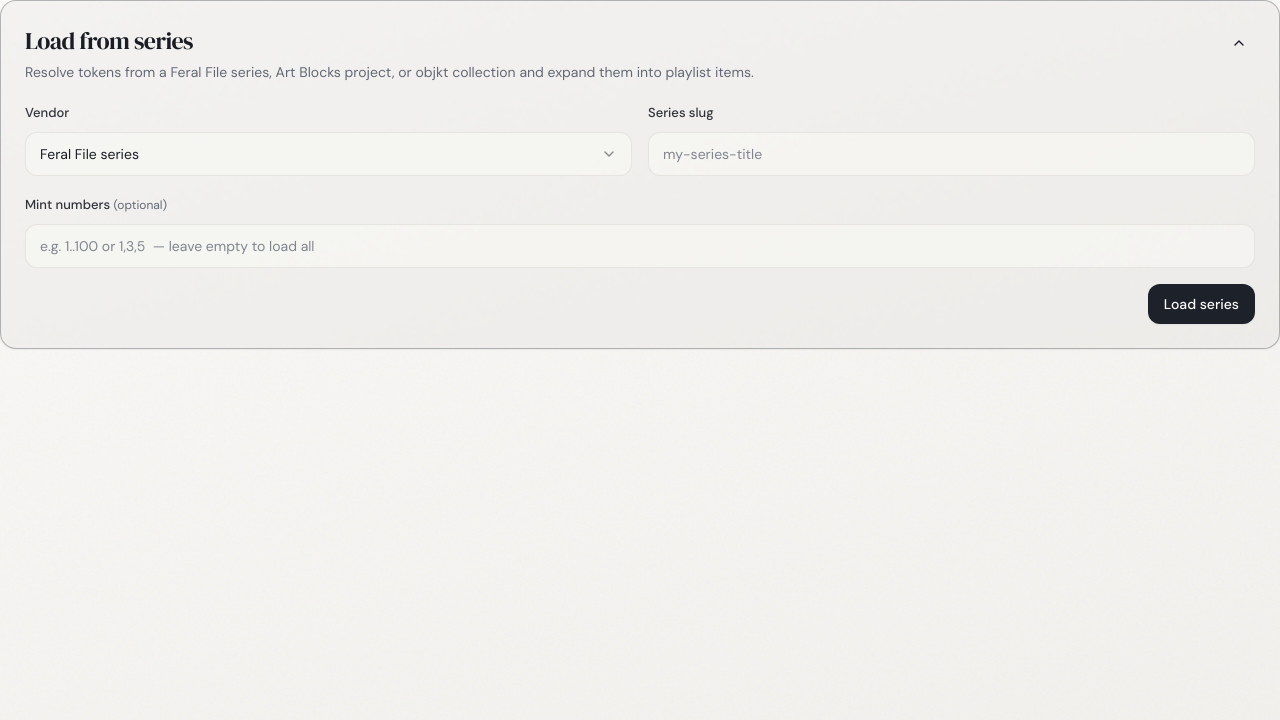
Scenario: SeriesExpander › shows a plain load button and no cap warning when not capped
The image size is (1280, 720).
Type "my-series" into the field labelled "Series slug" at (952, 154), box [648,132,1255,176]
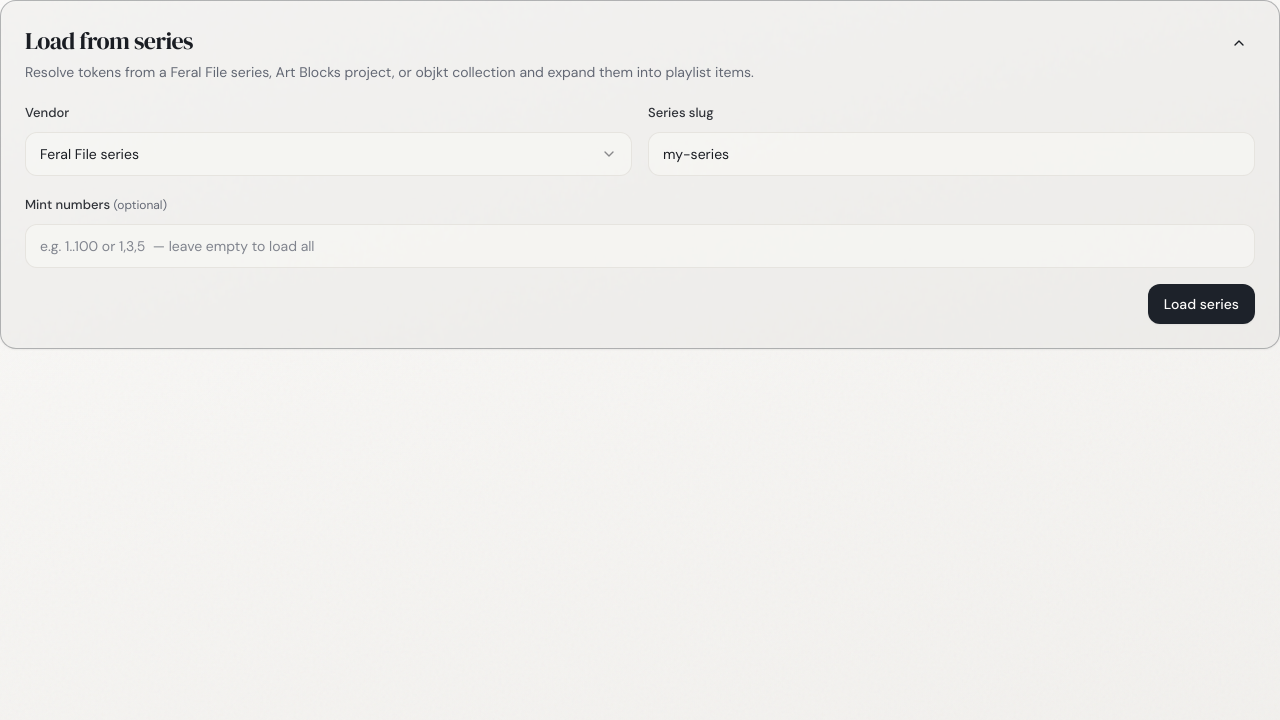
Click the button "Load series" at (1201, 304), box [1148,284,1255,324]
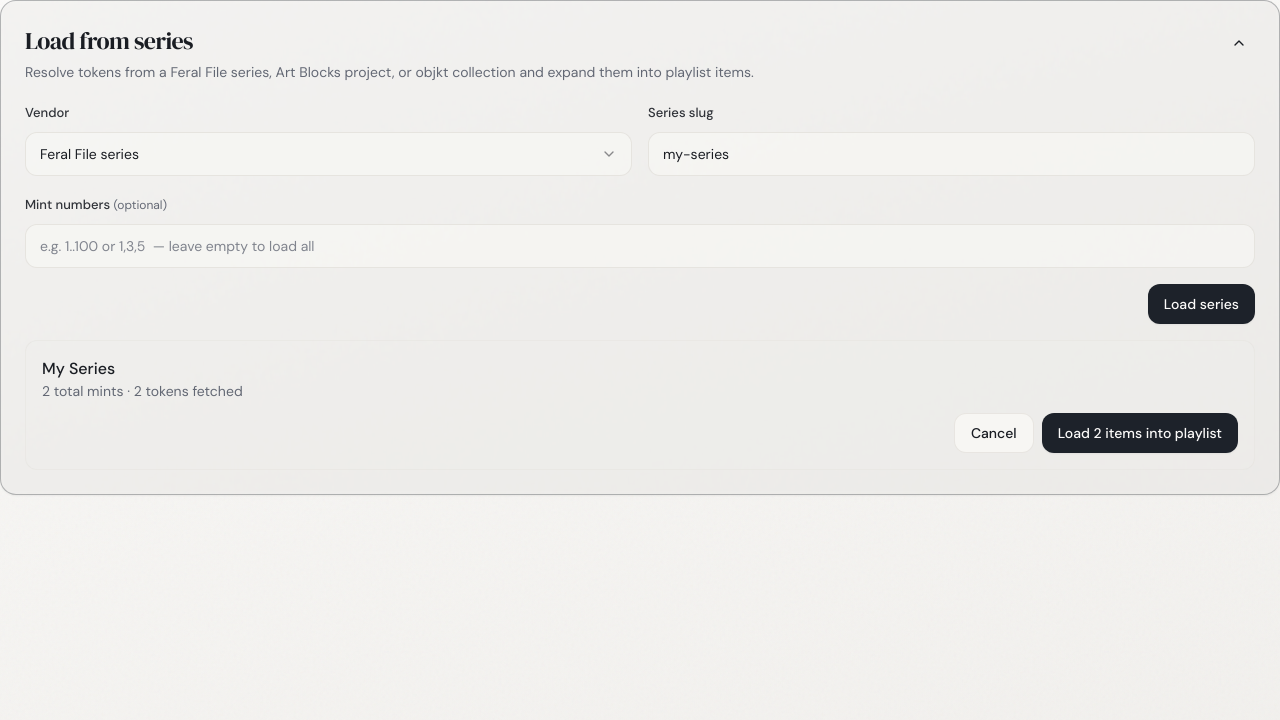
Result: the button "Load 2 items into playlist" is shown at [1042,413,1238,453]
